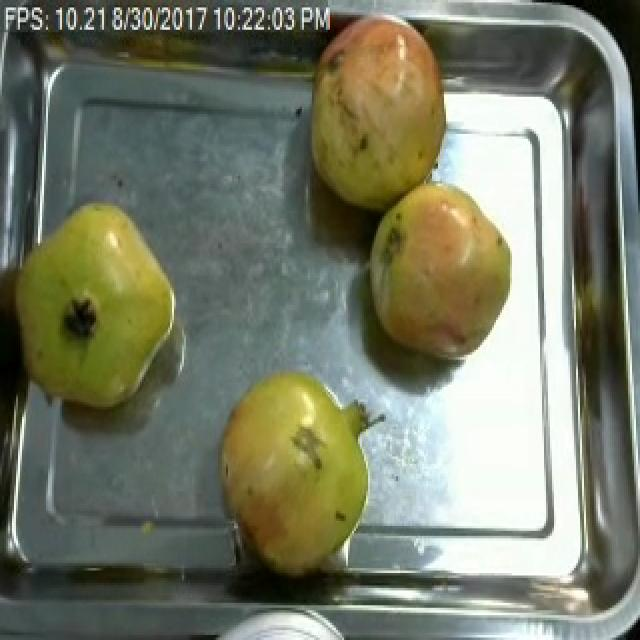fruit: (6, 191, 188, 427), (208, 355, 384, 585), (364, 171, 518, 375), (304, 7, 452, 216)
